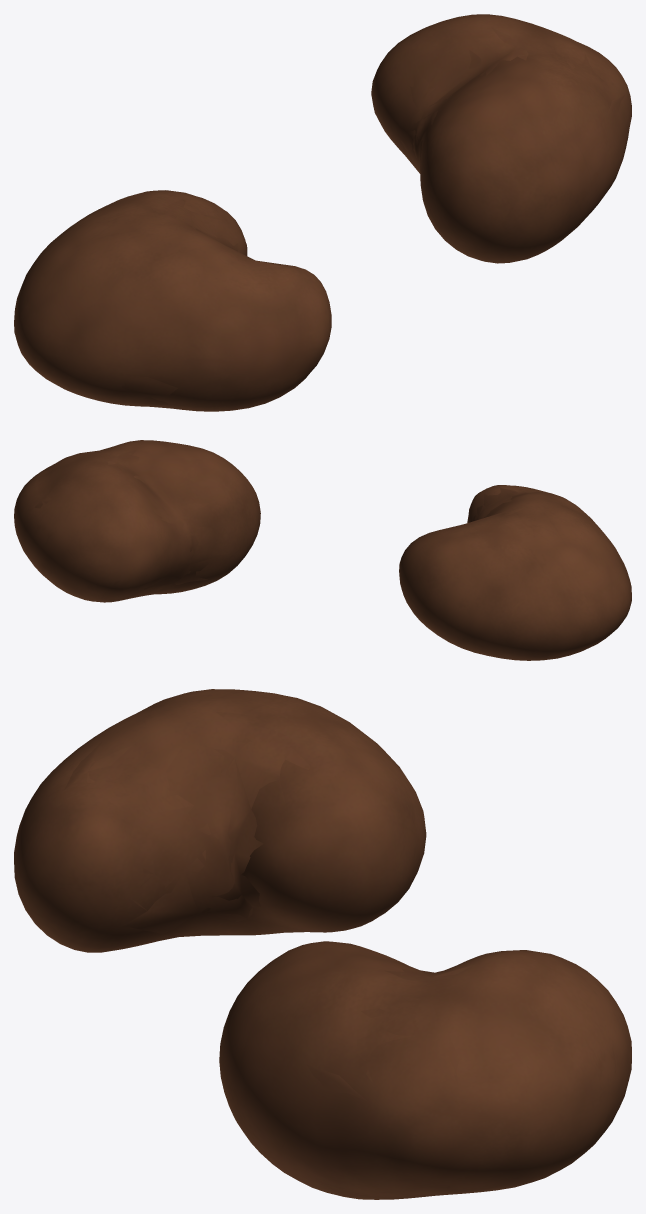
File: Kidneys.fbx
3 views of the same model, one above another, from view 1: azimuth 30°, elevation 25°; view 2: azimuth 150°, elevation 25°; view 3: azimuth 270°, elevation 25° (orthographic). The views are drawn at different scales.
Visible parts, largest first — view 1: Kidneys, Kidneys low; view 2: Kidneys, Kidneys low; view 3: Kidneys, Kidneys low.
Part boxes in pixels (x1,y1,x2,y2): Kidneys: [14, 14, 631, 411]; Kidneys low: [26, 27, 624, 409]; Kidneys: [14, 440, 631, 660]; Kidneys low: [22, 446, 603, 656]; Kidneys: [14, 689, 631, 1199]; Kidneys low: [24, 711, 630, 1199].
Size of the model in its own units: 26.87 by 7.18 by 16.07.
